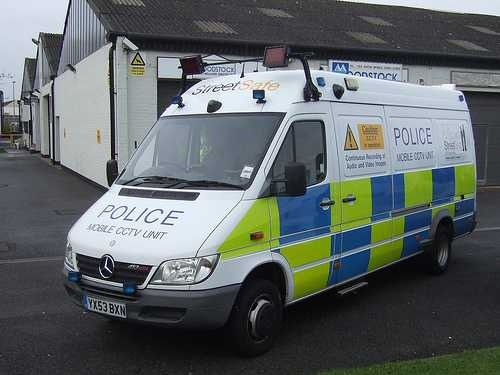Police Van: (41, 37, 491, 348)
